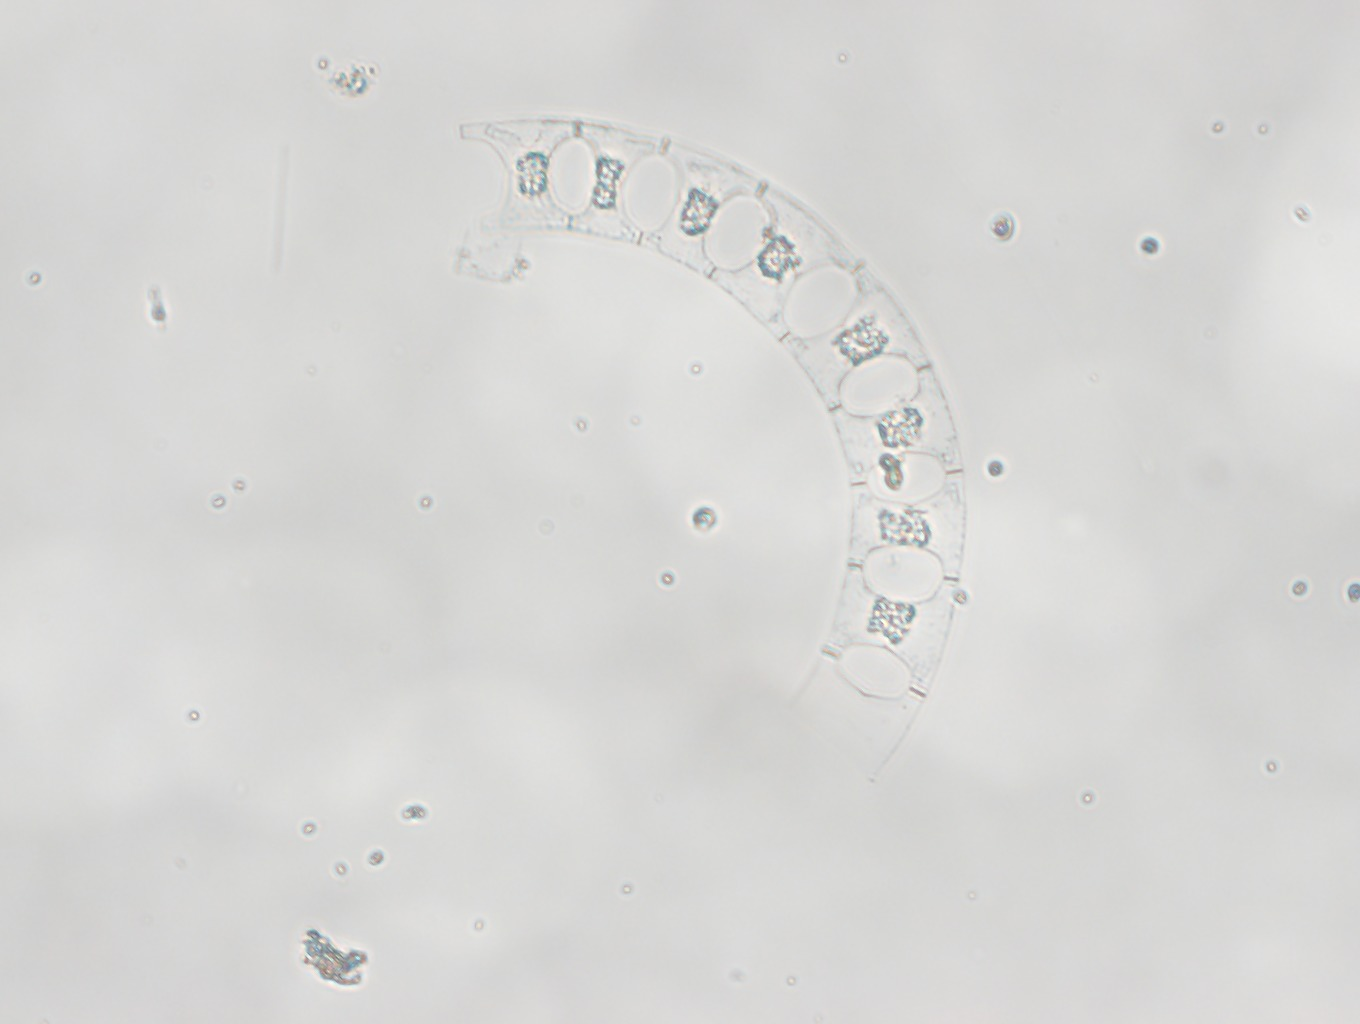eucampia: (450, 110, 972, 783)
